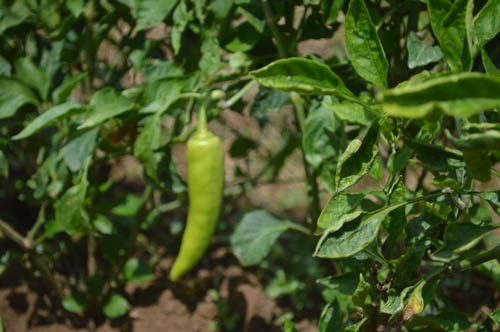ChiliPepper: (171, 138, 224, 282)
